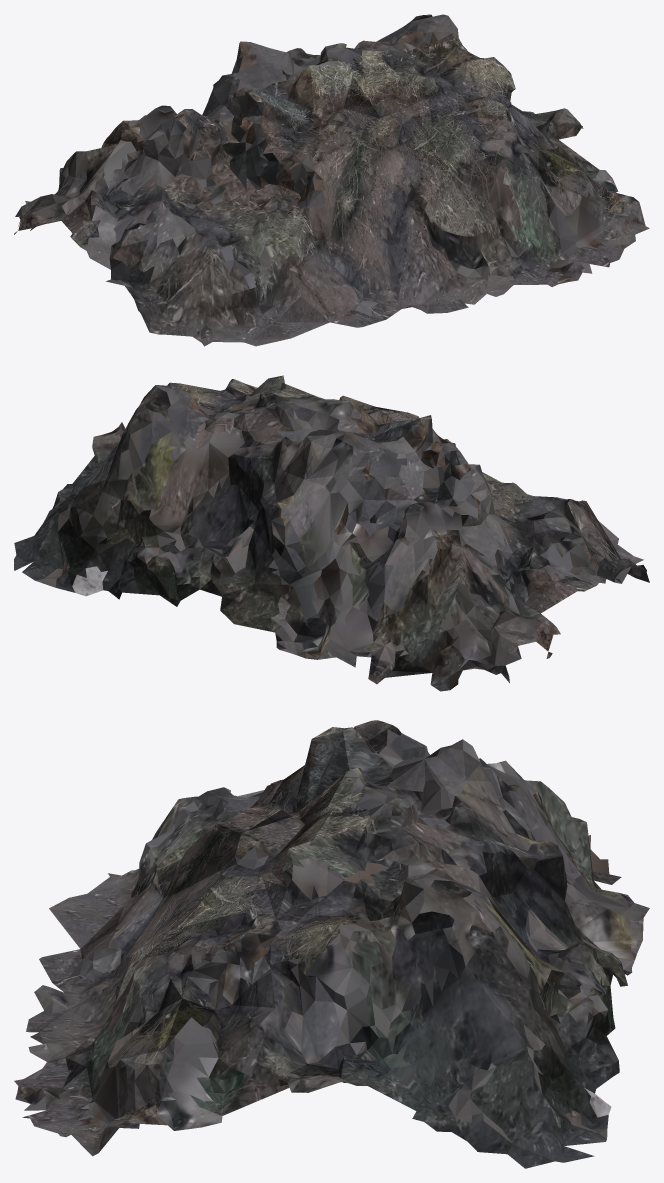
The model's file is Sludge.fbx.
The picture shows the model from 3 angles, top to bottom: view 1: azimuth 30°, elevation 25°; view 2: azimuth 150°, elevation 25°; view 3: azimuth 270°, elevation 25°; orthographic projection. The views are drawn at different scales.
Visible parts, largest first — view 1: Sludge; view 2: Sludge; view 3: Sludge.
Part boxes in pixels (x1,y1,x2,y2): Sludge: [14, 14, 649, 346]; Sludge: [14, 375, 649, 691]; Sludge: [14, 720, 649, 1168].
Size of the model in its own units: 894 by 293 by 688.
Materials: 1 (1 with a texture image).
